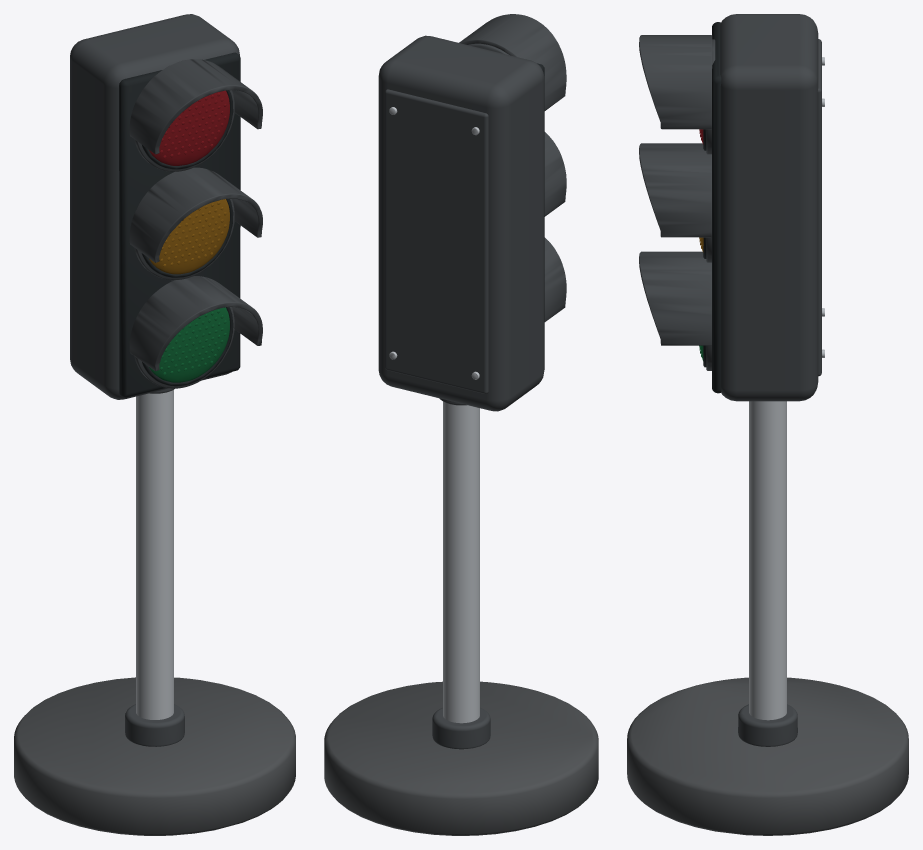
File: Semaforo_simulador.glb
3 renders of one model, left to right at view 1: azimuth 30°, elevation 25°; view 2: azimuth 150°, elevation 25°; view 3: azimuth 270°, elevation 25°, orthographic. The views are drawn at different scales.
Visible parts, largest first — view 1: Collarin_inferior, Base_circular, Marco_frontal, Poste, Lente_verde, Lente_roja, Lente_ambar; view 2: Collarin_inferior, Base_circular, Poste; view 3: Collarin_inferior, Base_circular, Poste, Marco_frontal.
Boxes of the visible parts, left/top/right/bottom form: Collarin_inferior: left=70, top=14, right=262, bottom=746; Base_circular: left=14, top=677, right=295, bottom=835; Marco_frontal: left=119, top=52, right=240, bottom=397; Poste: left=136, top=389, right=173, bottom=719; Lente_verde: left=149, top=307, right=229, bottom=382; Lente_roja: left=149, top=90, right=229, bottom=165; Lente_ambar: left=149, top=199, right=229, bottom=274; Collarin_inferior: left=378, top=14, right=566, bottom=749; Base_circular: left=324, top=681, right=598, bottom=835; Poste: left=389, top=107, right=479, bottom=723; Collarin_inferior: left=639, top=14, right=821, bottom=746; Base_circular: left=627, top=677, right=908, bottom=835; Poste: left=749, top=57, right=824, bottom=720; Marco_frontal: left=703, top=22, right=721, bottom=393.
Bounding box in the file's own units: 0.1038 × 0.3 × 0.1038.
